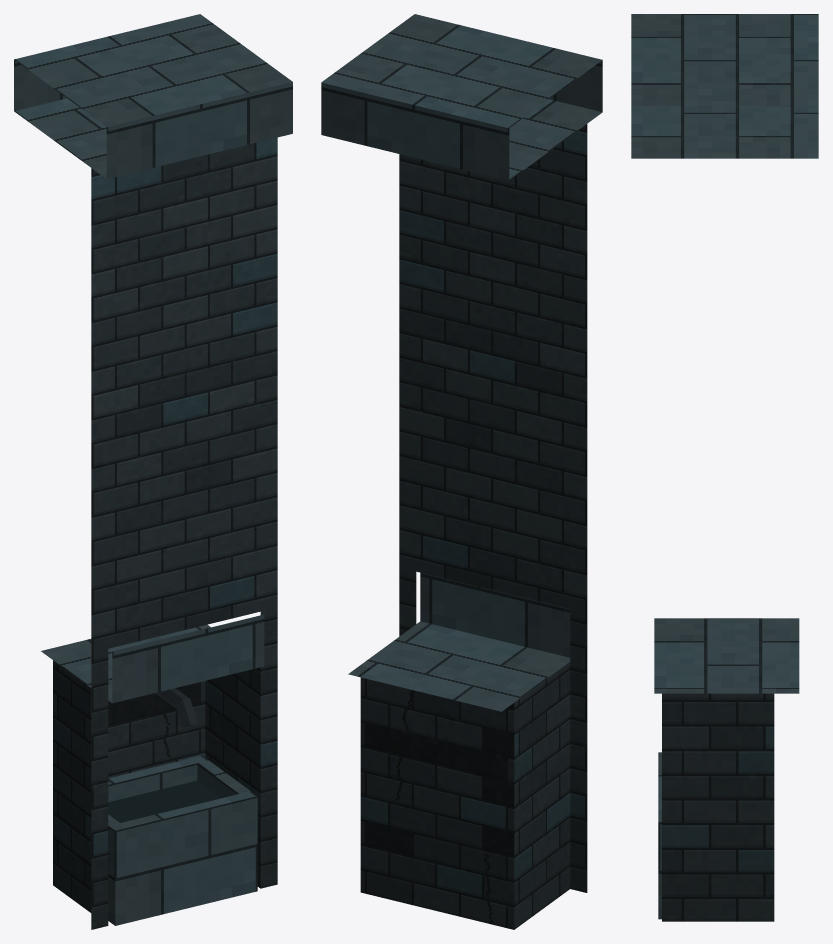
File: T1_Wall_Trough.fbx
The picture shows the model from 3 angles, left to right: view 1: azimuth 30°, elevation 25°; view 2: azimuth 150°, elevation 25°; view 3: azimuth 270°, elevation 25°; orthographic projection.
Parts seen in each view (by area): view 1: T1_Wall_Trough; view 2: T1_Wall_Trough; view 3: T1_Wall_Trough.
Boxes of the visible parts, x1,y1,x2,y2 form: T1_Wall_Trough: (14,14,292,929); T1_Wall_Trough: (321,14,602,929); T1_Wall_Trough: (631,14,818,921).
Bounding box in the file's own units: 1.12 × 4.7 × 0.97.
